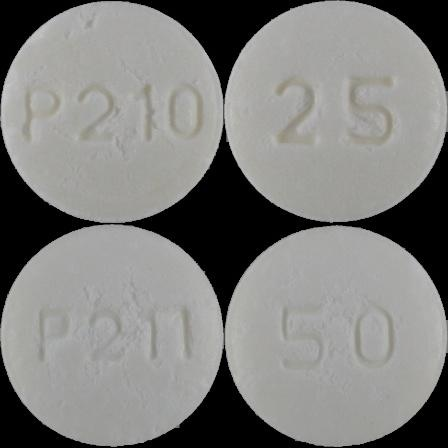64380-758: (0, 0, 224, 224)
